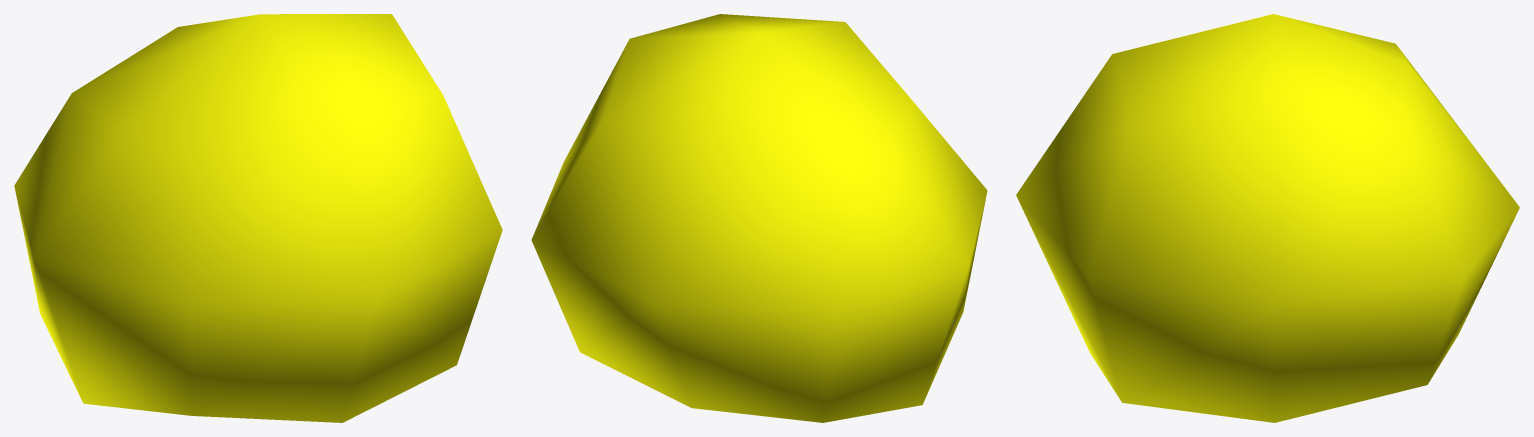
The model's file is Props_Rocks_Rock_2_Rock2_Low.glb.
3 views of the same model, side by side, from view 1: azimuth 30°, elevation 25°; view 2: azimuth 150°, elevation 25°; view 3: azimuth 270°, elevation 25° (orthographic). The views are drawn at different scales.
Parts seen in each view (by area): view 1: Rock2_High.003; view 2: Rock2_High.003; view 3: Rock2_High.003.
Part boxes in pixels (box(x1,y1,x2,y2)): Rock2_High.003: box(14, 14, 502, 422); Rock2_High.003: box(531, 14, 987, 422); Rock2_High.003: box(1016, 14, 1519, 422).
Size of the model in its own units: 1.6 by 1.24 by 1.61.
1 material, 1 textured.
